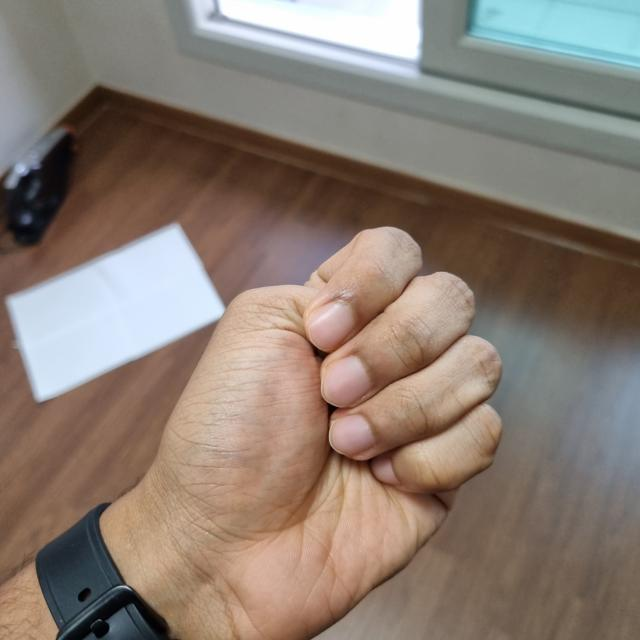Rock: (109, 257, 500, 639)
